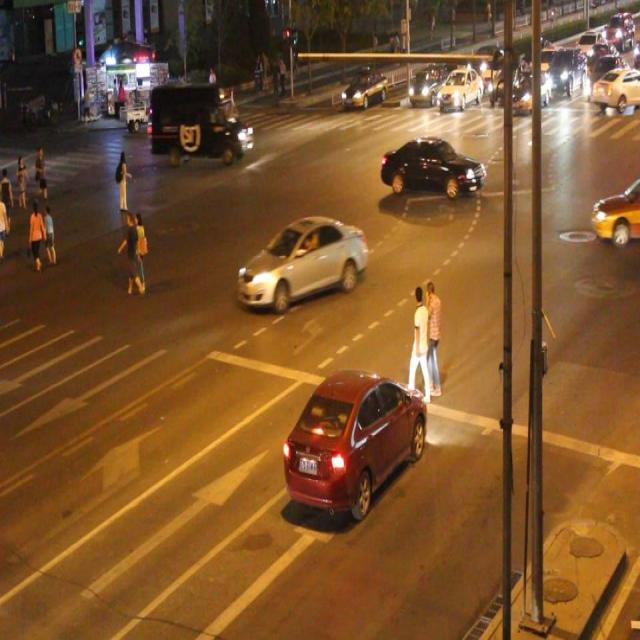car: (284, 371, 425, 520), (234, 215, 367, 308), (379, 134, 486, 198), (591, 179, 640, 248), (437, 66, 480, 112), (342, 68, 388, 106), (408, 67, 445, 106)
truck: (148, 82, 252, 160)
